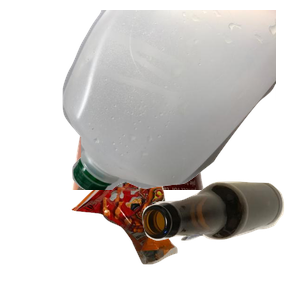glass: (140, 179, 300, 300)
metal: (69, 93, 265, 273)
plastic: (60, 10, 300, 190)
trash: (69, 153, 239, 300)
